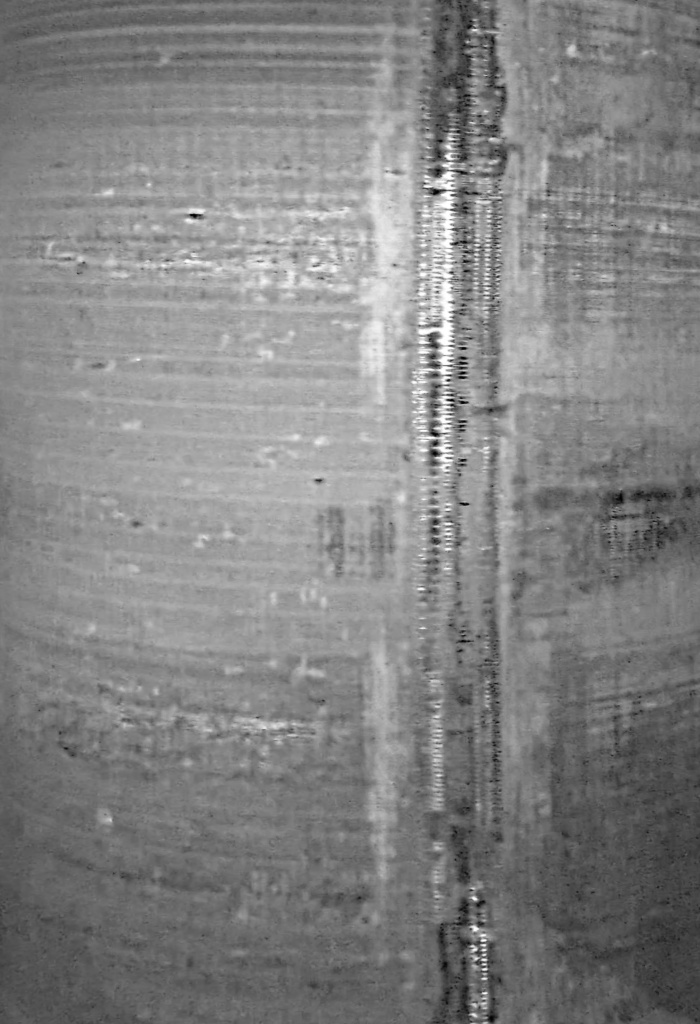splice: (400, 1, 519, 1024)
